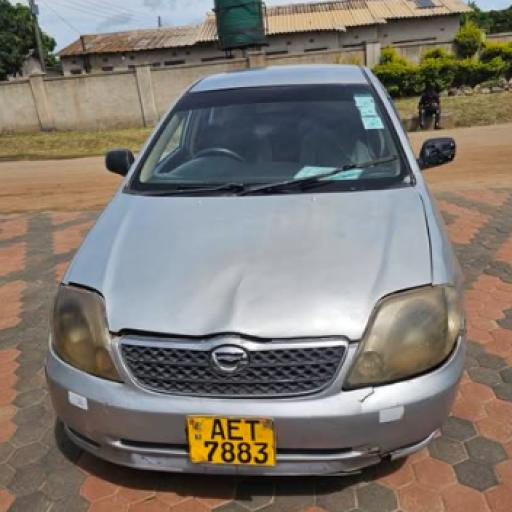number-plates: (182, 415, 270, 467)
